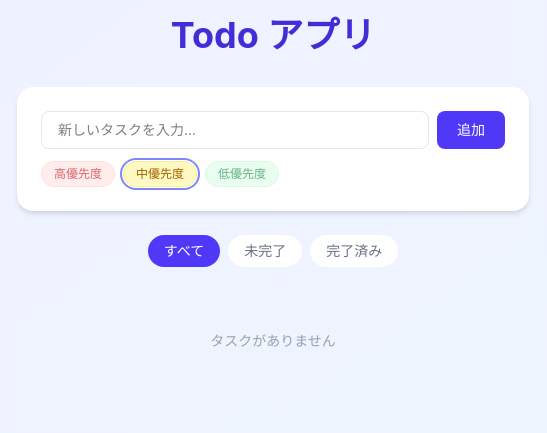
Home (Todo アプリ) › Todo の追加 › 複数のTodoを追加できる
Type "タスク1" into the field with placeholder "新しいタスクを入力...".
click(235, 130); type("タスク1")  # box [41,111,429,149]
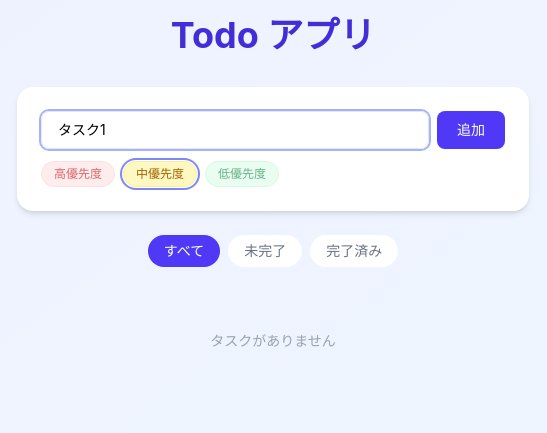
Click the button "追加".
click(471, 130)  # box [437,111,505,149]
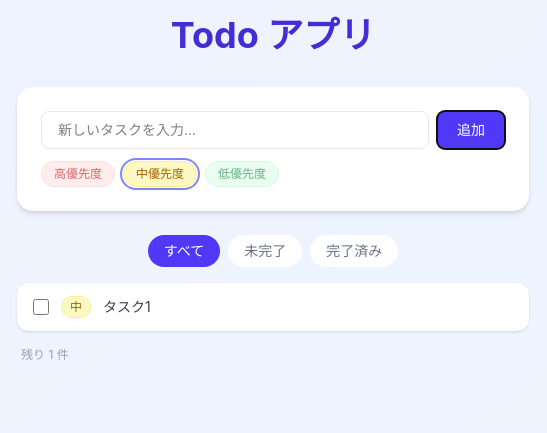
Type "タスク2" into the field with placeholder "新しいタスクを入力...".
click(235, 130); type("タスク2")  # box [41,111,429,149]
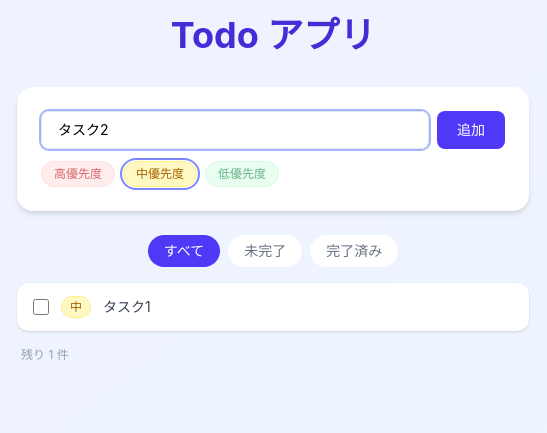
Click the button "追加".
click(471, 130)  # box [437,111,505,149]
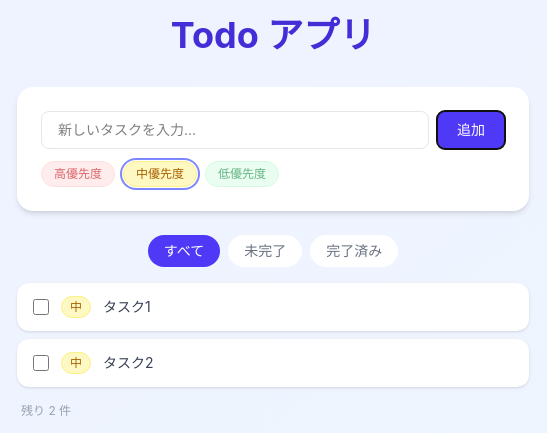
Expected: the text "タスク1" is shown, [103,298,151,315]
Expected: the text "タスク2" is shown, [103,354,154,371]
